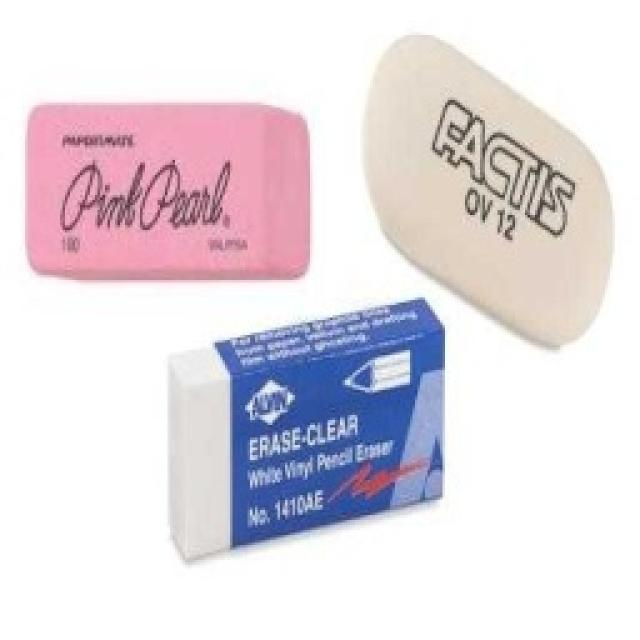Silgi: (163, 294, 446, 562), (27, 100, 311, 280)
